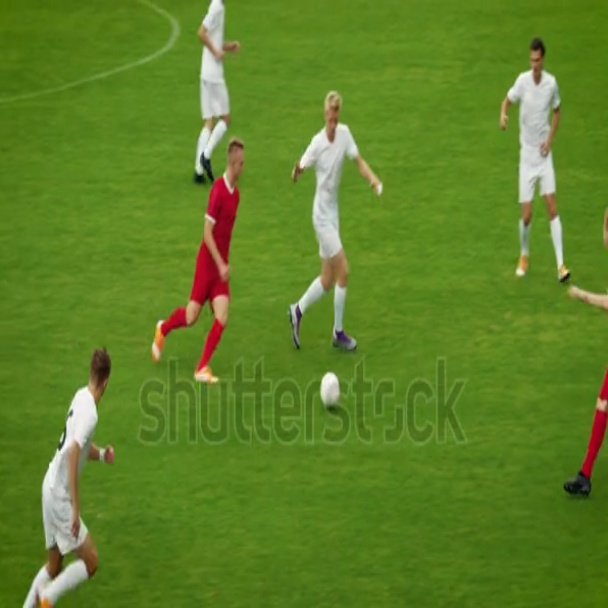ball: (314, 367, 345, 415)
